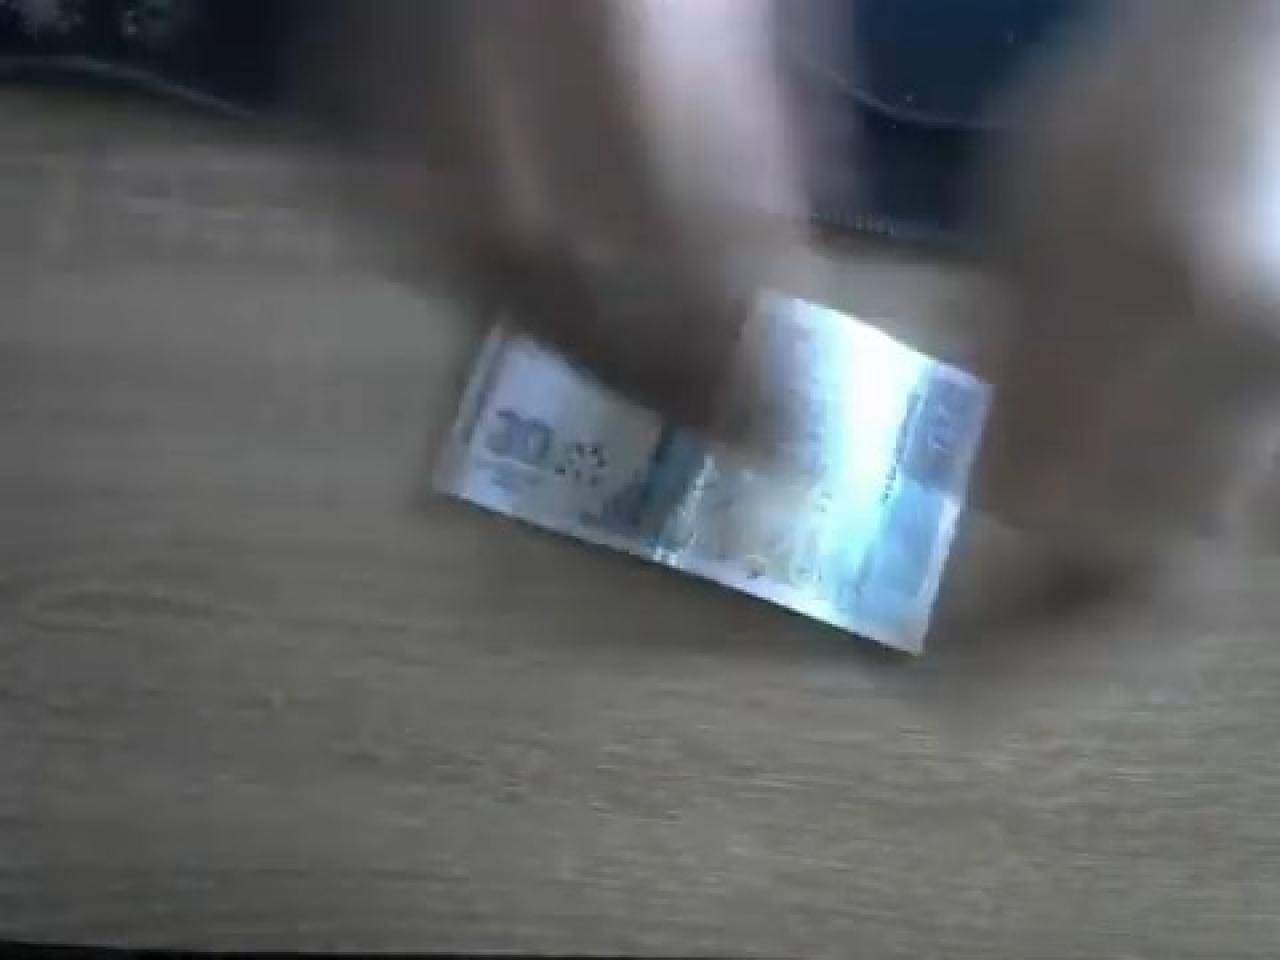20leva: (426, 320, 976, 656)
